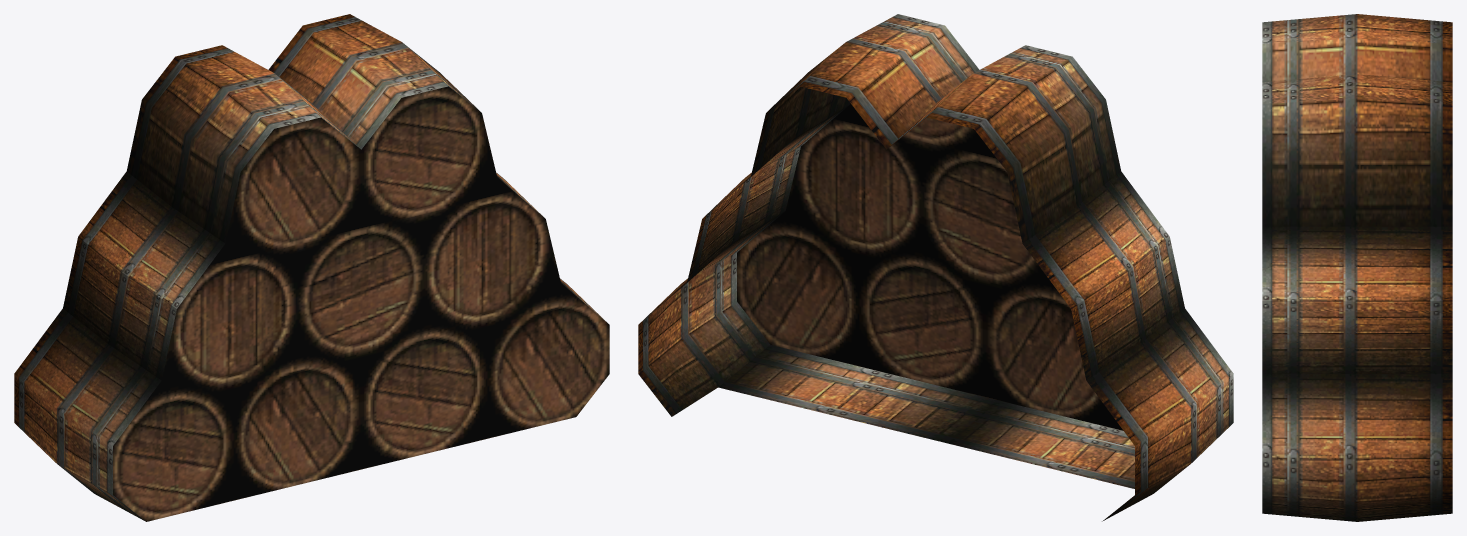
File: bochka3.glb
3 views of the same model, side by side, from view 1: azimuth 30°, elevation 25°; view 2: azimuth 150°, elevation 25°; view 3: azimuth 270°, elevation 25° (orthographic). The views are drawn at different scales.
Visible parts, largest first — view 1: bochka3; view 2: bochka3; view 3: bochka3.
Boxes of the visible parts, box(x1,y1,x2,y2) form: bochka3: box(14, 14, 609, 521); bochka3: box(638, 14, 1233, 521); bochka3: box(1262, 14, 1452, 521).
Size of the model in its own units: 3.31 by 2.33 by 1.11.
2 materials, 2 textured.
